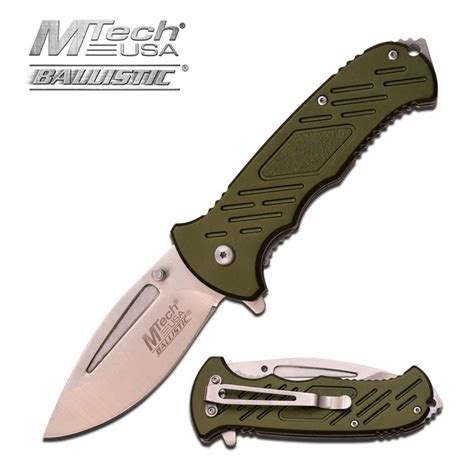knife: (34, 34, 441, 447), (187, 353, 445, 453)
